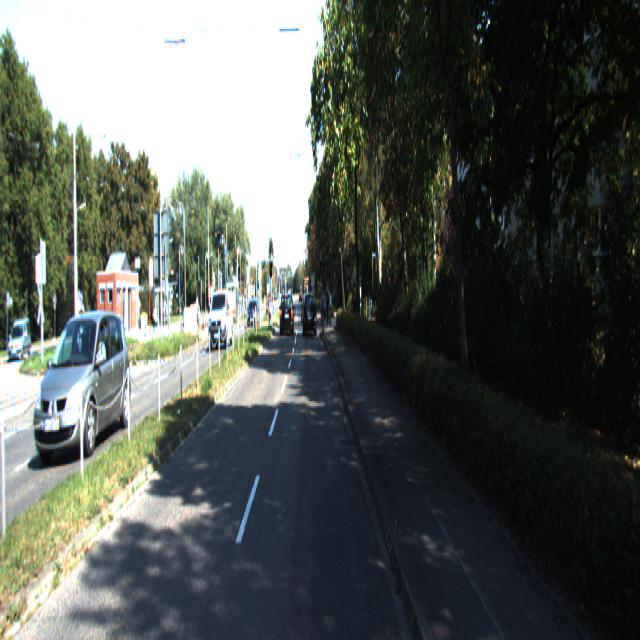Car: (34, 308, 133, 469), (209, 290, 235, 350), (303, 292, 317, 338), (280, 293, 294, 338)
